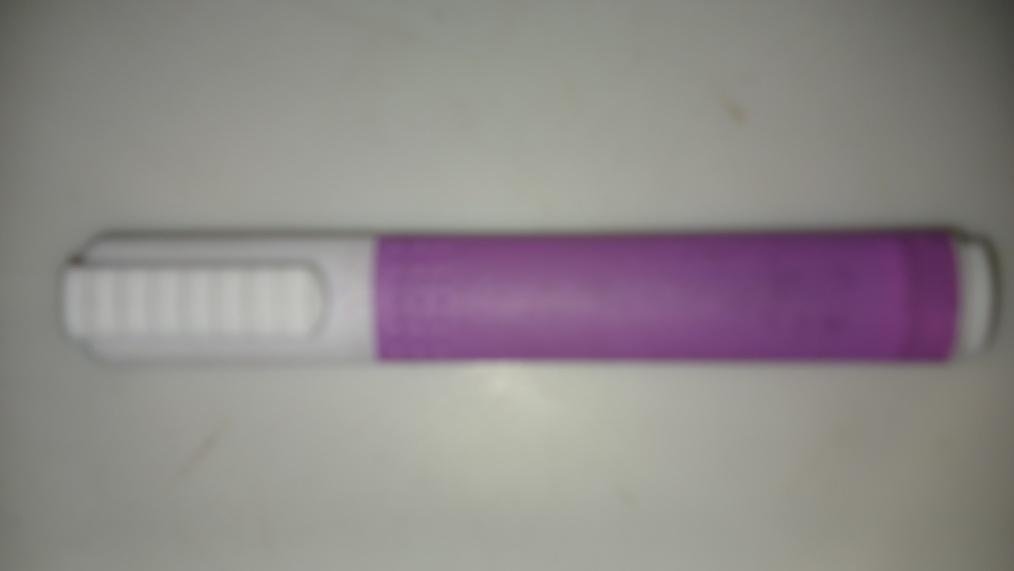Highlighter: (56, 222, 1000, 380)
